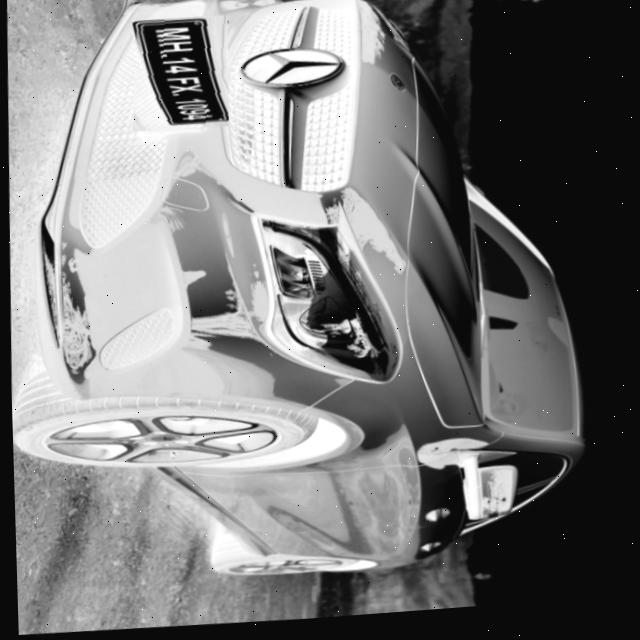Non_registered: (129, 16, 228, 135)
